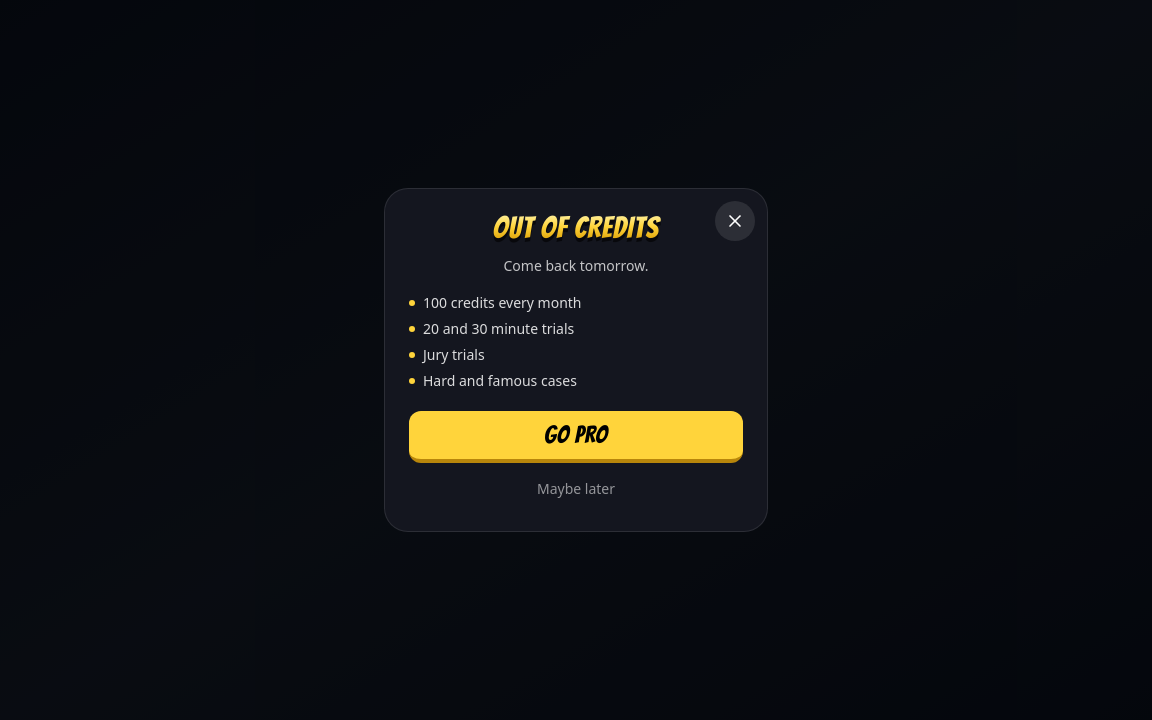
Test: UpgradePrompt › says so when payments are not open yet or something went wrong, and lets the player try again
What coordinates should you click on to do the following:
click the button "GO PRO"
I would click on:
 (576, 437)
Its box is [409,411,743,463].
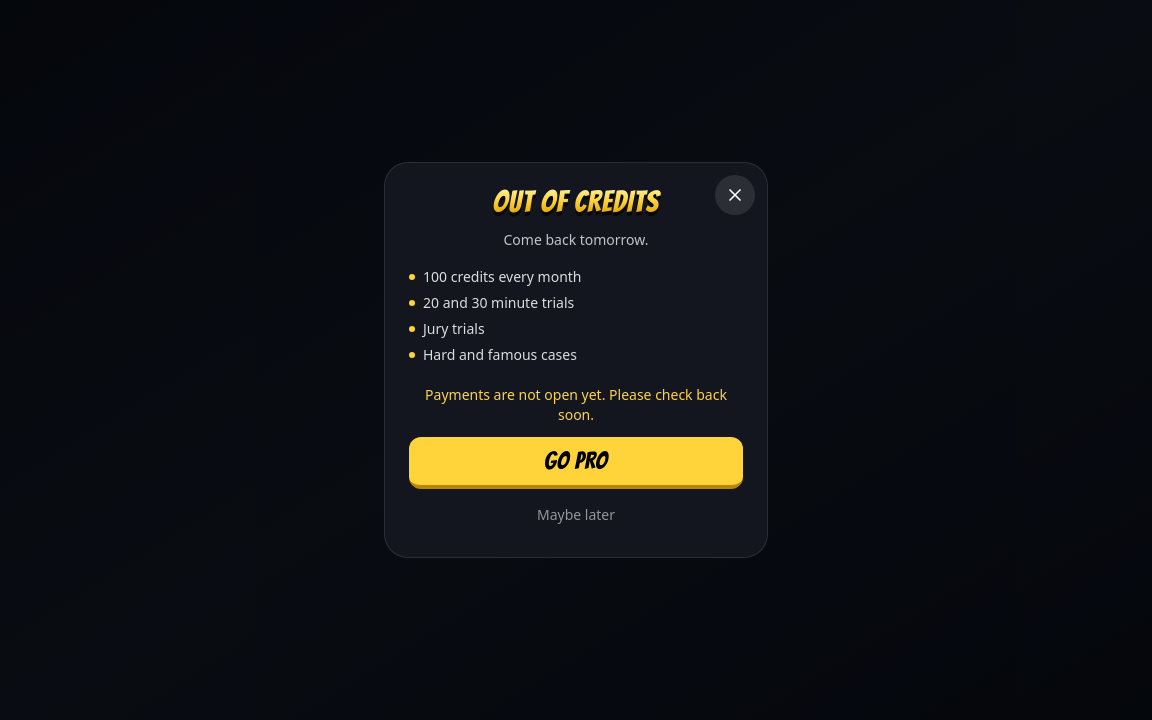
Check: the message shows "Payments are not open yet", box [425,385,727,424]
What coordinates should you click on to do the following:
click the button "GO PRO"
I would click on:
 (576, 463)
Its box is [409,437,743,489].
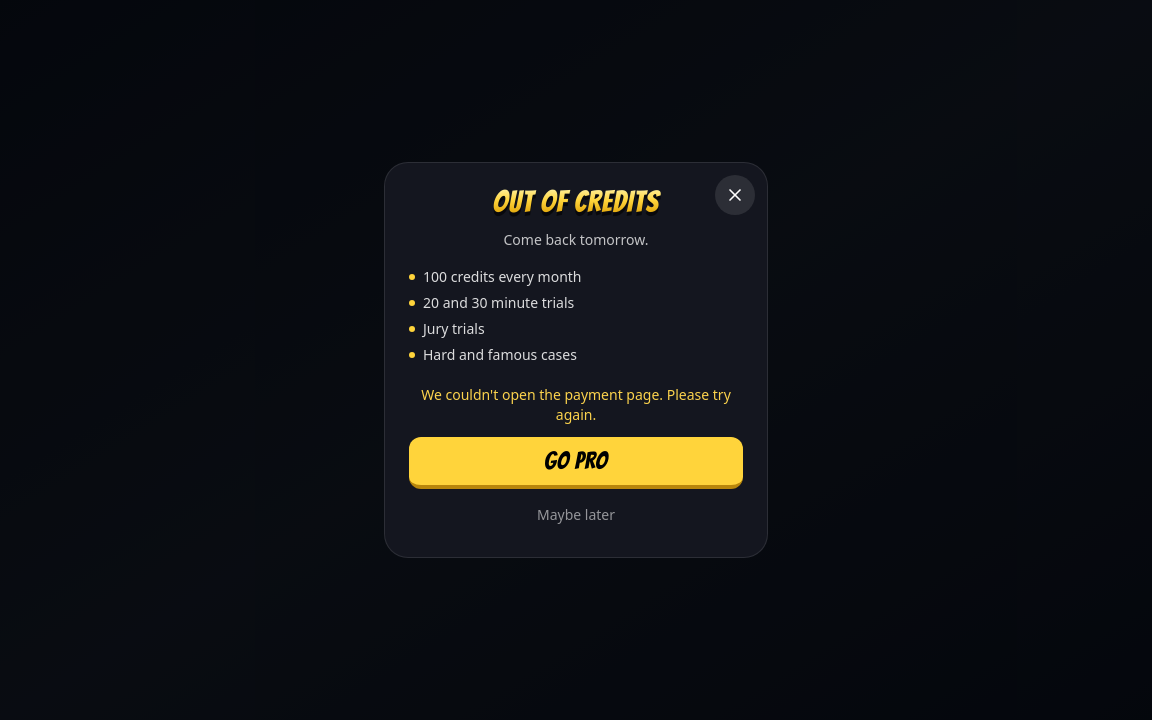
Check: the message shows "couldn't open the payment page", box [421,385,731,424]
